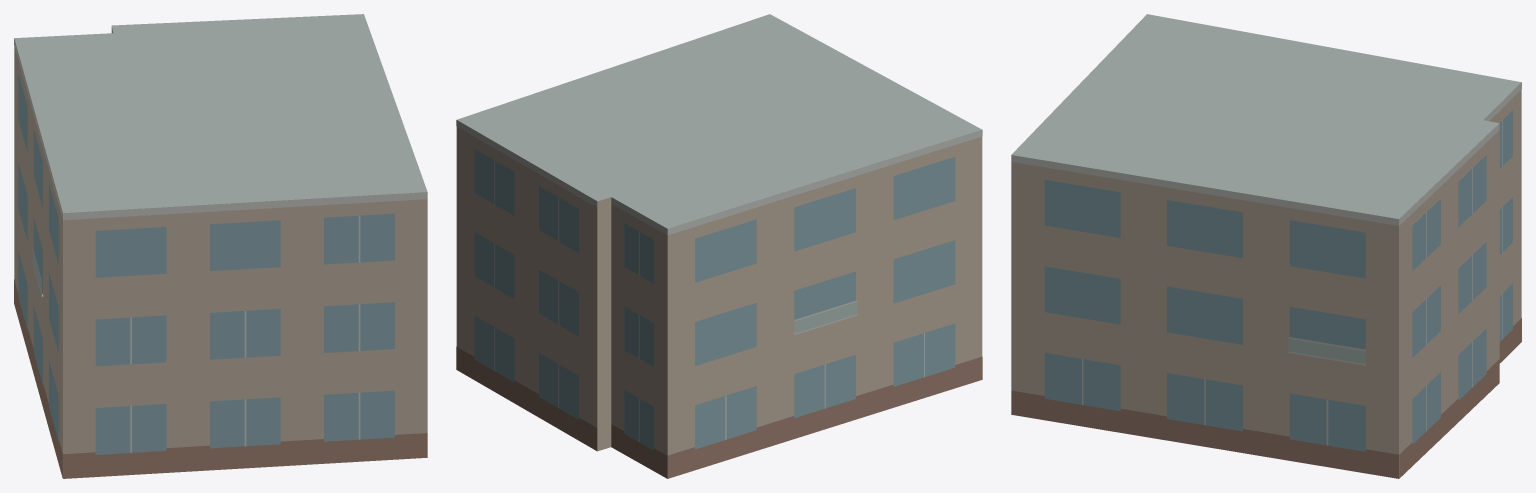
File: survey-upis-32868171.glb
The picture shows the model from 3 angles, left to right: view 1: azimuth 30°, elevation 25°; view 2: azimuth 150°, elevation 25°; view 3: azimuth 270°, elevation 25°; orthographic projection. The views are drawn at different scales.
Visible parts, largest first — view 1: survey-upis-32868171.tmp; view 2: survey-upis-32868171.tmp; view 3: survey-upis-32868171.tmp.
Part boxes in pixels (x1,y1,x2,y2): survey-upis-32868171.tmp: (14,14,427,478); survey-upis-32868171.tmp: (456,14,982,478); survey-upis-32868171.tmp: (1011,14,1521,478).
Size of the model in its own units: 15.5 by 9.15 by 16.31.
